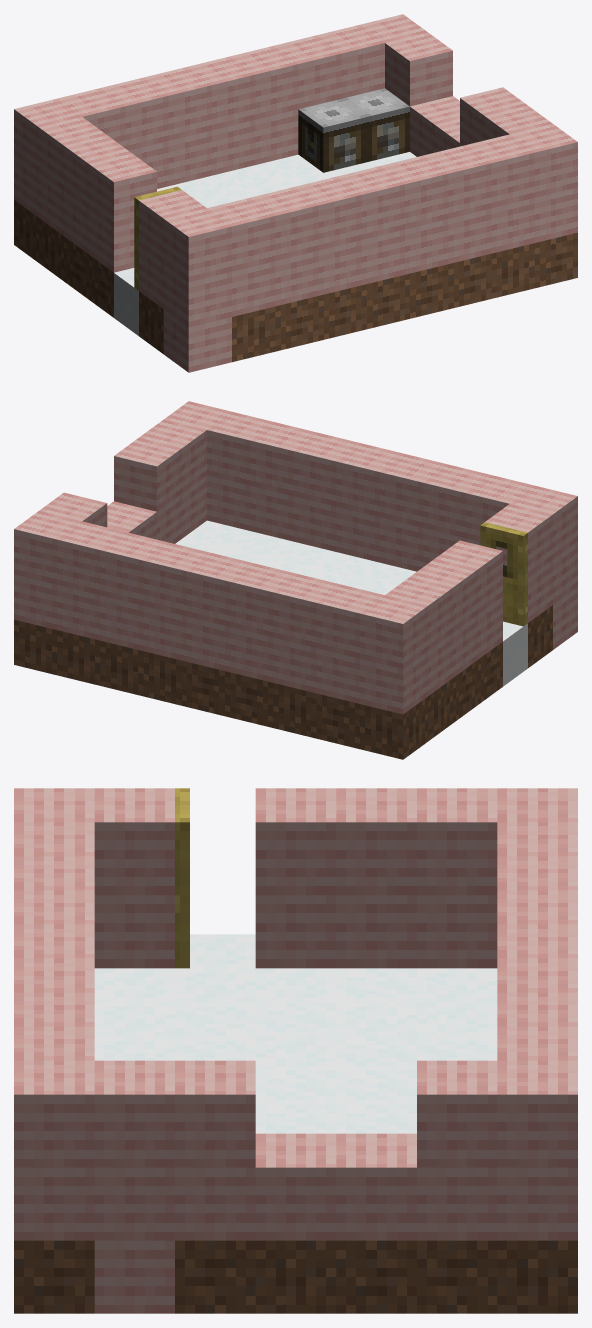
The model's file is Maquete_Victória de Padua Campos.glb.
3 renders of one model, top to bottom at view 1: azimuth 30°, elevation 25°; view 2: azimuth 150°, elevation 25°; view 3: azimuth 270°, elevation 25°, orthographic. The views are drawn at different scales.
Visible parts, largest first — view 1: node_2, node_1; view 2: node_2, node_1; view 3: node_2, node_1.
Boxes of the visible parts, <box> form: node_2: <box>14,14,577,372</box>; node_1: <box>134,88,409,290</box>; node_2: <box>14,401,577,759</box>; node_1: <box>480,522,527,626</box>; node_2: <box>14,788,577,1313</box>; node_1: <box>175,788,189,968</box>.
Size of the model in its own units: 9 by 3 by 7.
2 materials, 2 textured.
